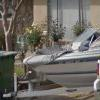Boat: (23, 30, 99, 97)
